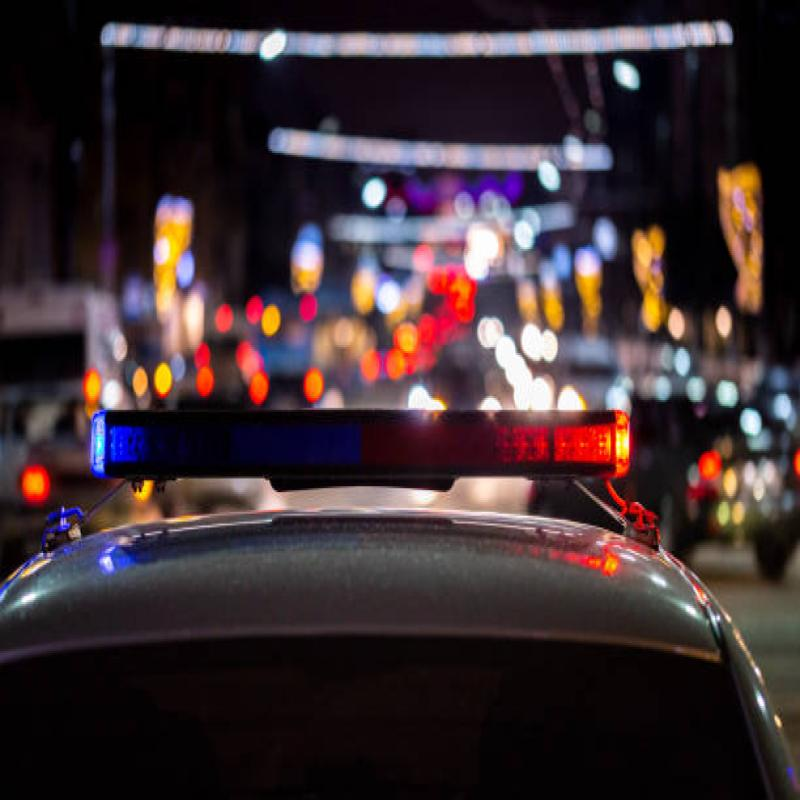AmbulanceSiren: (75, 389, 672, 496)
